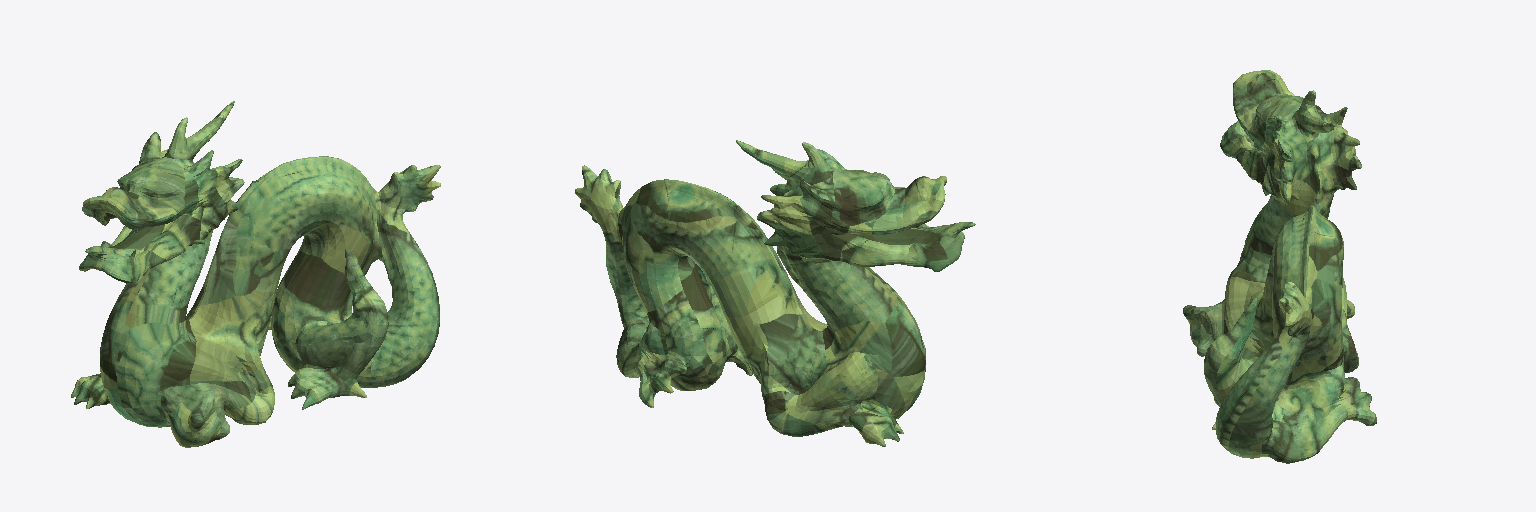
3 renders of one model, left to right at view 1: azimuth 30°, elevation 25°; view 2: azimuth 150°, elevation 25°; view 3: azimuth 270°, elevation 25°, orthographic.
Visible parts, largest first — view 1: obj1; view 2: obj1; view 3: obj1.
Boxes of the visible parts, x1,y1,x2,y2 form: obj1: [71, 101, 440, 447]; obj1: [575, 140, 975, 446]; obj1: [1183, 70, 1376, 463].
Bounding box in the file's own units: 142 × 99.61 × 63.21.
1 materials, 1 textured.